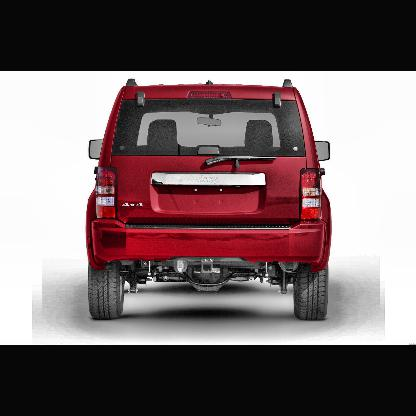Jeep Liberty SUV 2012: (84, 78, 331, 321)
